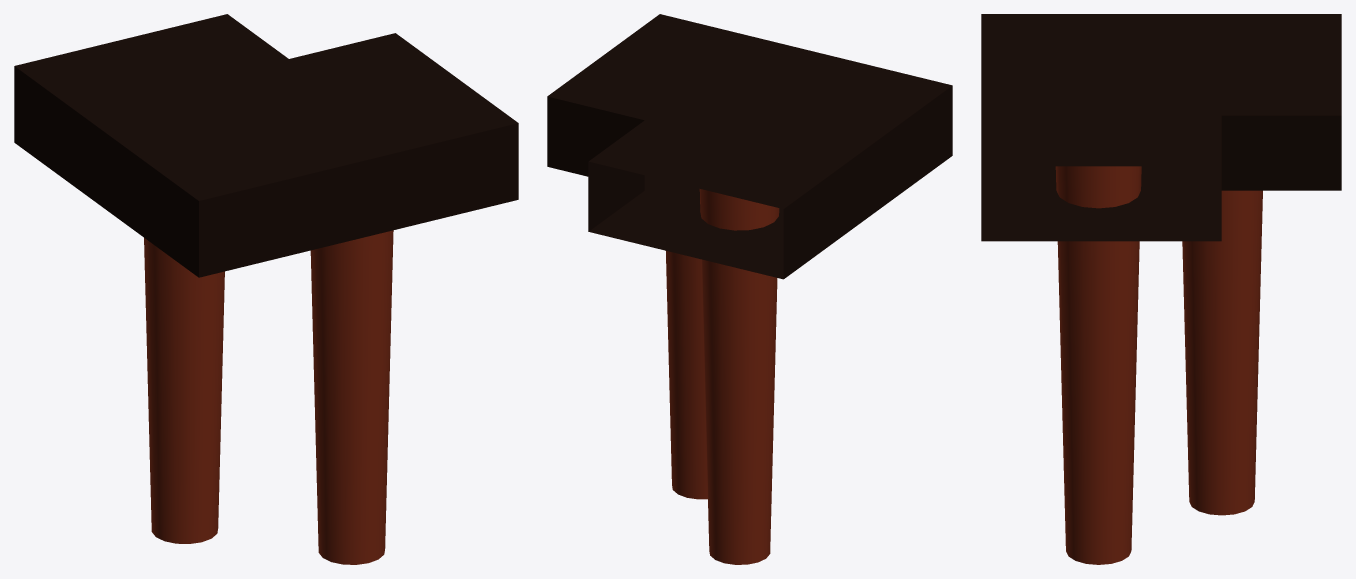
File: Boat_Steps_Railing_End.fbx
The picture shows the model from 3 angles, left to right: view 1: azimuth 30°, elevation 25°; view 2: azimuth 150°, elevation 25°; view 3: azimuth 270°, elevation 25°; orthographic projection. The views are drawn at different scales.
Parts seen in each view (by area): view 1: Boat_Steps_Railing_End; view 2: Boat_Steps_Railing_End; view 3: Boat_Steps_Railing_End.
Boxes of the visible parts, x1,y1,x2,y2 form: Boat_Steps_Railing_End: [14, 14, 518, 564]; Boat_Steps_Railing_End: [547, 14, 952, 564]; Boat_Steps_Railing_End: [981, 14, 1341, 564].
Bounding box in the file's own units: 0.75 × 0.9995 × 0.75.
1 material, 1 textured.
